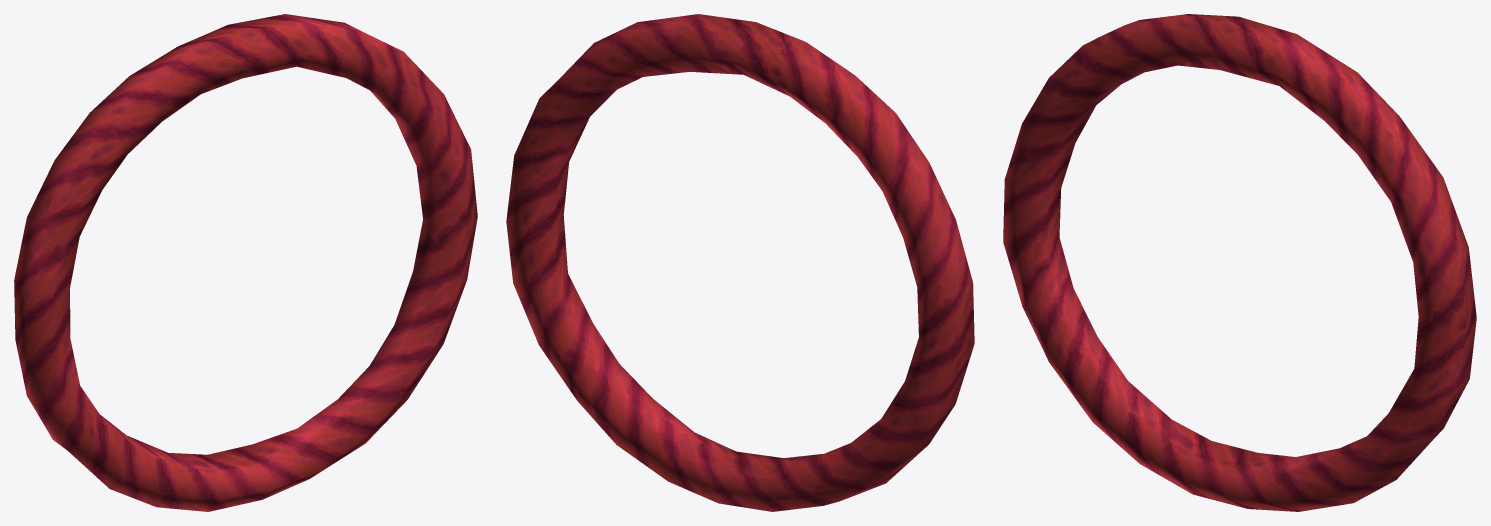
The model's file is SM_Circular_rope.fbx.
3 renders of one model, left to right at view 1: azimuth 30°, elevation 25°; view 2: azimuth 150°, elevation 25°; view 3: azimuth 330°, elevation 25°, orthographic.
Visible parts, largest first — view 1: SM_Circular_rope_LOD0; view 2: SM_Circular_rope_LOD0; view 3: SM_Circular_rope_LOD0.
Boxes of the visible parts, x1,y1,x2,y2 form: SM_Circular_rope_LOD0: [14, 14, 477, 511]; SM_Circular_rope_LOD0: [506, 14, 974, 511]; SM_Circular_rope_LOD0: [1003, 14, 1476, 511].
Bounding box in the file's own units: 31.49 × 3.55 × 31.48.
